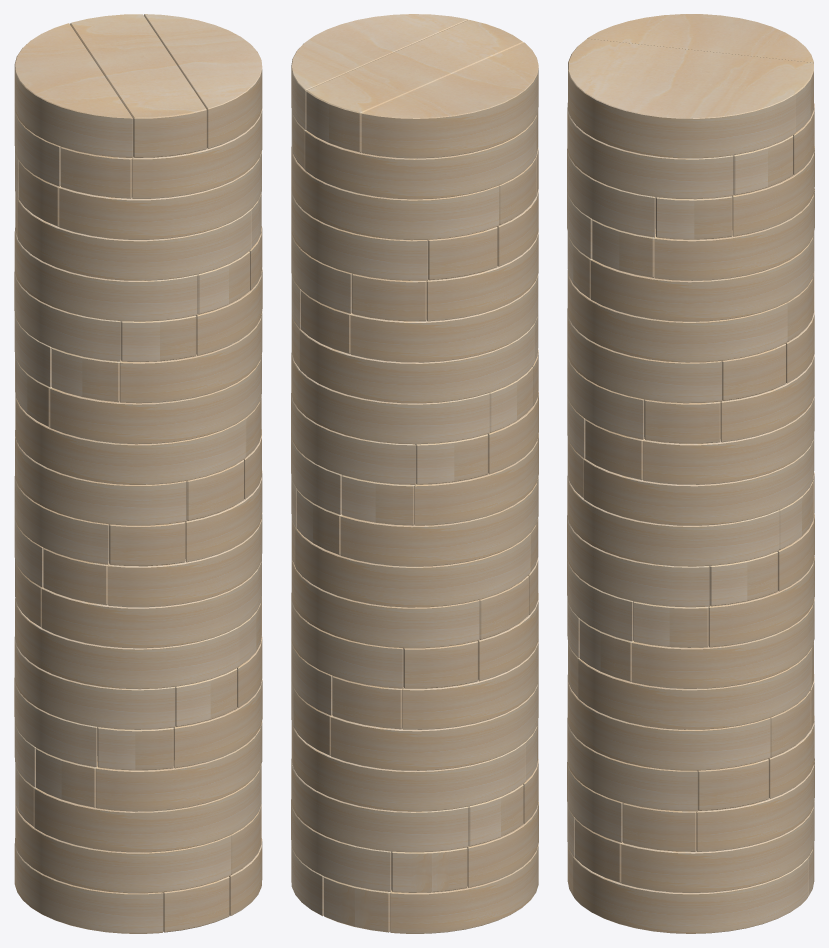
File: Jenga_Idle.fbx
3 views of the same model, side by side, from view 1: azimuth 30°, elevation 25°; view 2: azimuth 150°, elevation 25°; view 3: azimuth 270°, elevation 25° (orthographic).
Parts seen in each view (by area): view 1: polySurface4 (×16), polySurface1 (×16), polySurface3 (×20); view 2: polySurface4 (×15), polySurface1 (×15), polySurface3 (×20); view 3: polySurface1 (×16), polySurface4 (×16), polySurface3 (×20).
Boxes of the visible parts, x1=… form: polySurface4 (×16): x1=14, y1=23, x2=262, y2=933; polySurface1 (×16): x1=14, y1=14, x2=262, y2=915; polySurface3 (×20): x1=15, y1=14, x2=261, y2=932; polySurface4 (×15): x1=291, y1=42, x2=538, y2=933; polySurface1 (×15): x1=291, y1=14, x2=538, y2=916; polySurface3 (×20): x1=291, y1=20, x2=538, y2=932; polySurface1 (×16): x1=567, y1=70, x2=814, y2=933; polySurface4 (×16): x1=567, y1=14, x2=814, y2=842; polySurface3 (×20): x1=567, y1=38, x2=814, y2=896.
Size of the model in its own units: 24.21 by 87.9 by 24.21.
